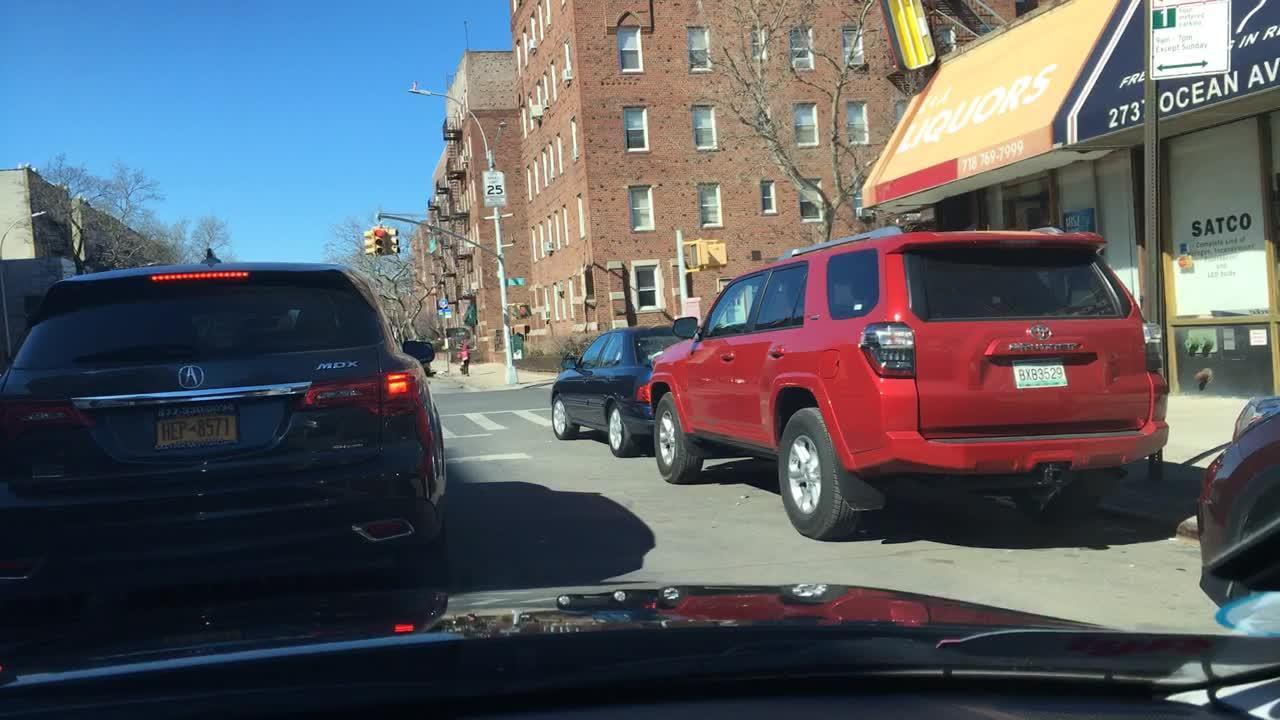Toyota: (1024, 320, 1056, 344)
acura: (169, 359, 212, 397)
